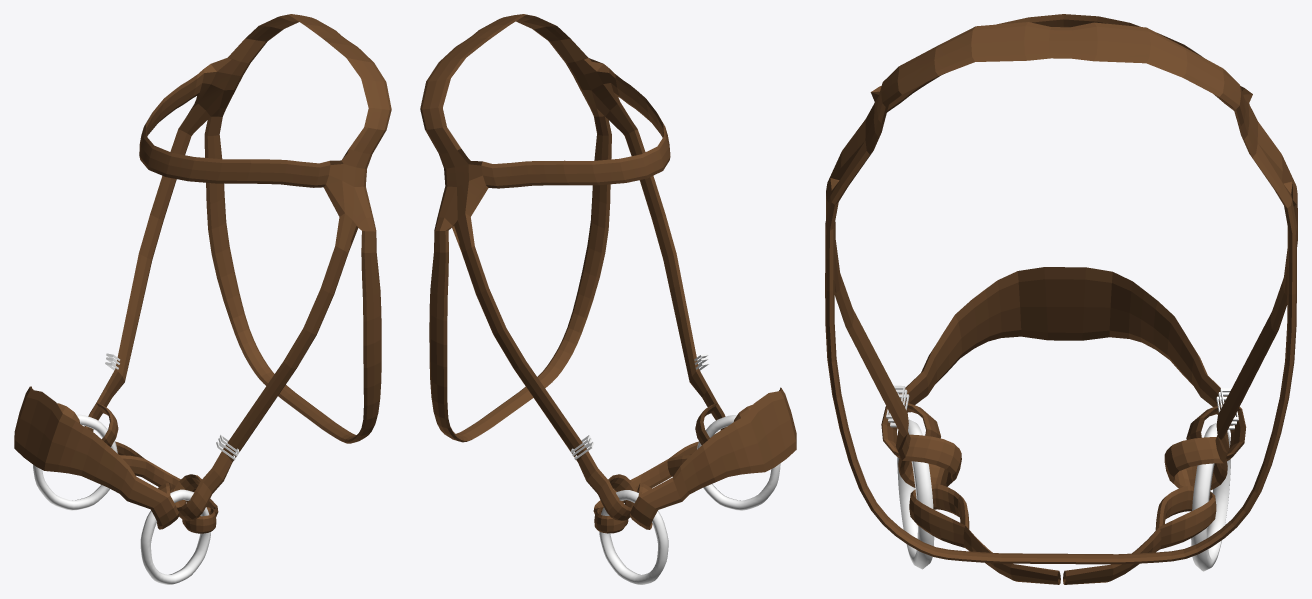
The model's file is Brida_Americano.glb.
The picture shows the model from 3 angles, left to right: view 1: azimuth 30°, elevation 25°; view 2: azimuth 150°, elevation 25°; view 3: azimuth 270°, elevation 25°; orthographic projection. The views are drawn at different scales.
Parts seen in each view (by area): view 1: Brida_Americano; view 2: Brida_Americano; view 3: Brida_Americano.
Part boxes in pixels (x1=…): Brida_Americano: x1=14, y1=14, x2=391, y2=584; Brida_Americano: x1=420, y1=14, x2=796, y2=584; Brida_Americano: x1=825, y1=14, x2=1297, y2=584.
Bounding box in the file's own units: 0.1291 × 0.1823 × 0.1156.
